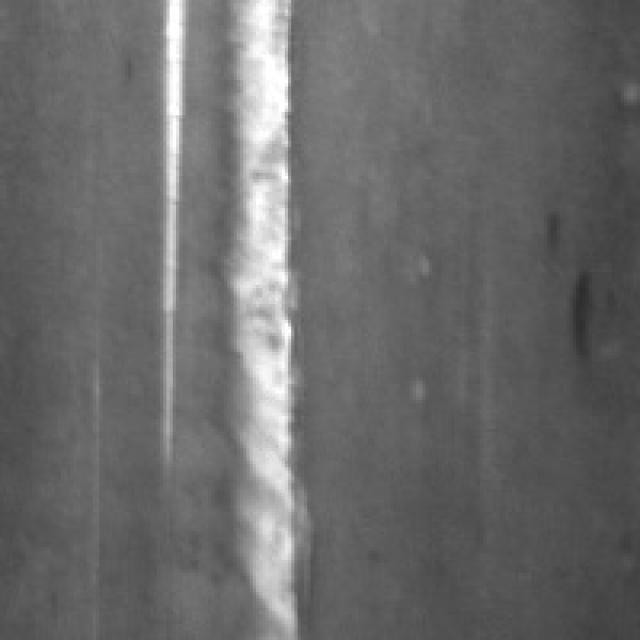inclusion: (560, 259, 598, 352)
scratches: (208, 0, 301, 634), (147, 0, 189, 477)
